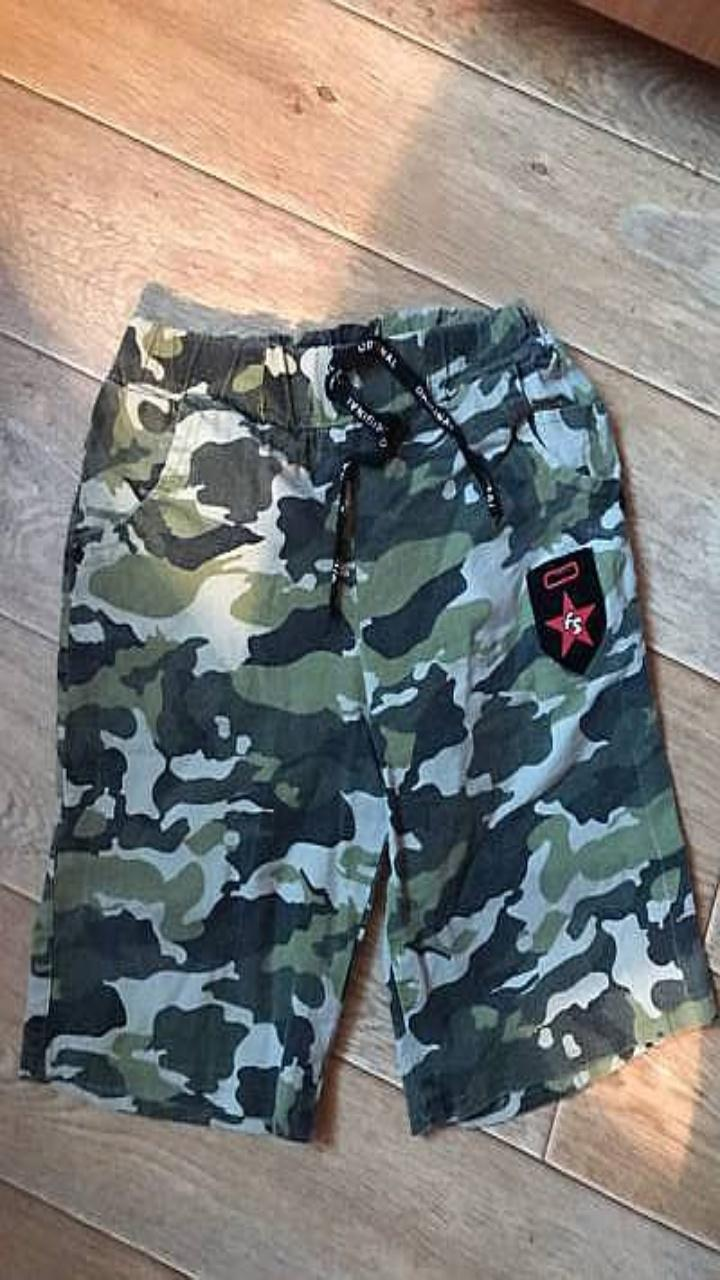Shorts: (20, 290, 715, 1139)
